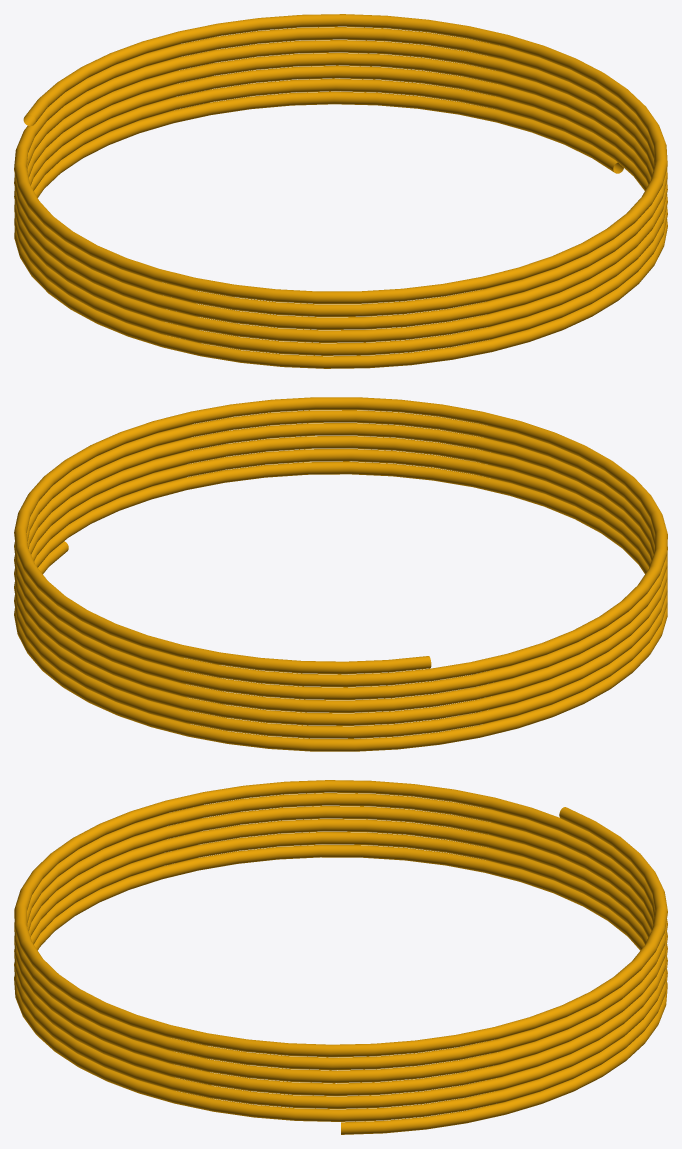
The model's file is coil.fbx.
3 views of the same model, one above another, from view 1: azimuth 30°, elevation 25°; view 2: azimuth 150°, elevation 25°; view 3: azimuth 270°, elevation 25° (orthographic).
Visible parts, largest first — view 1: Circle; view 2: Circle; view 3: Circle.
Boxes of the visible parts, bbox=[...] form: Circle: bbox=[14, 14, 667, 368]; Circle: bbox=[14, 397, 667, 751]; Circle: bbox=[14, 780, 667, 1134].
Size of the model in its own units: 1034 by 164 by 1034.
